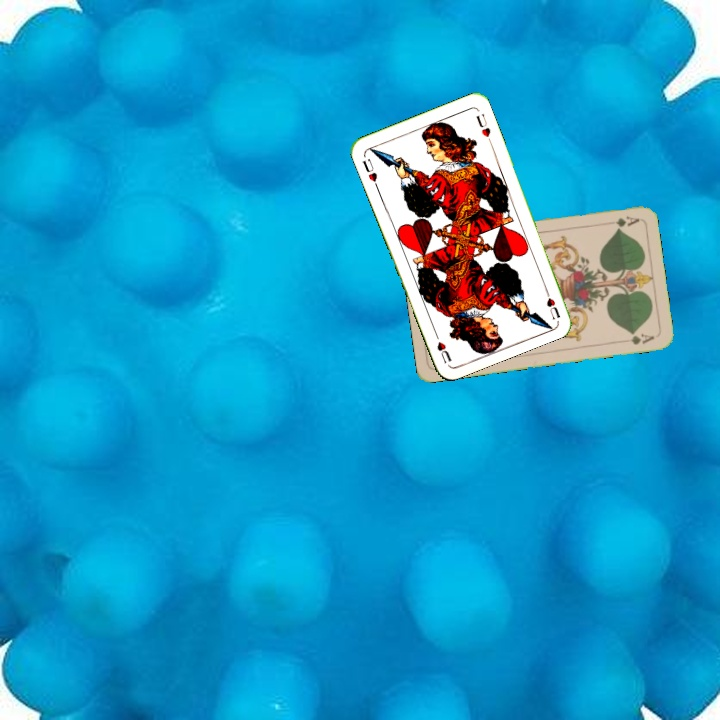GA: (601, 212, 642, 229)
HU: (540, 283, 563, 322), (358, 154, 380, 184)
